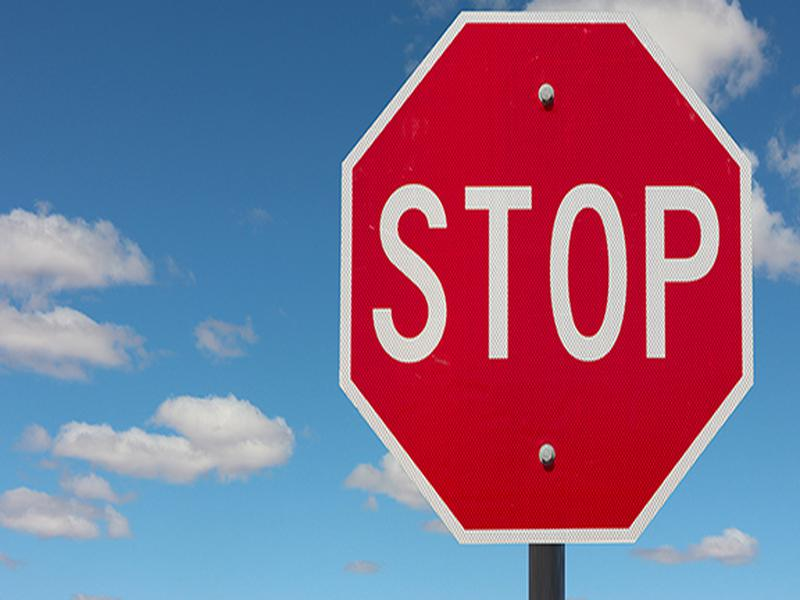stop: (350, 9, 747, 543)
